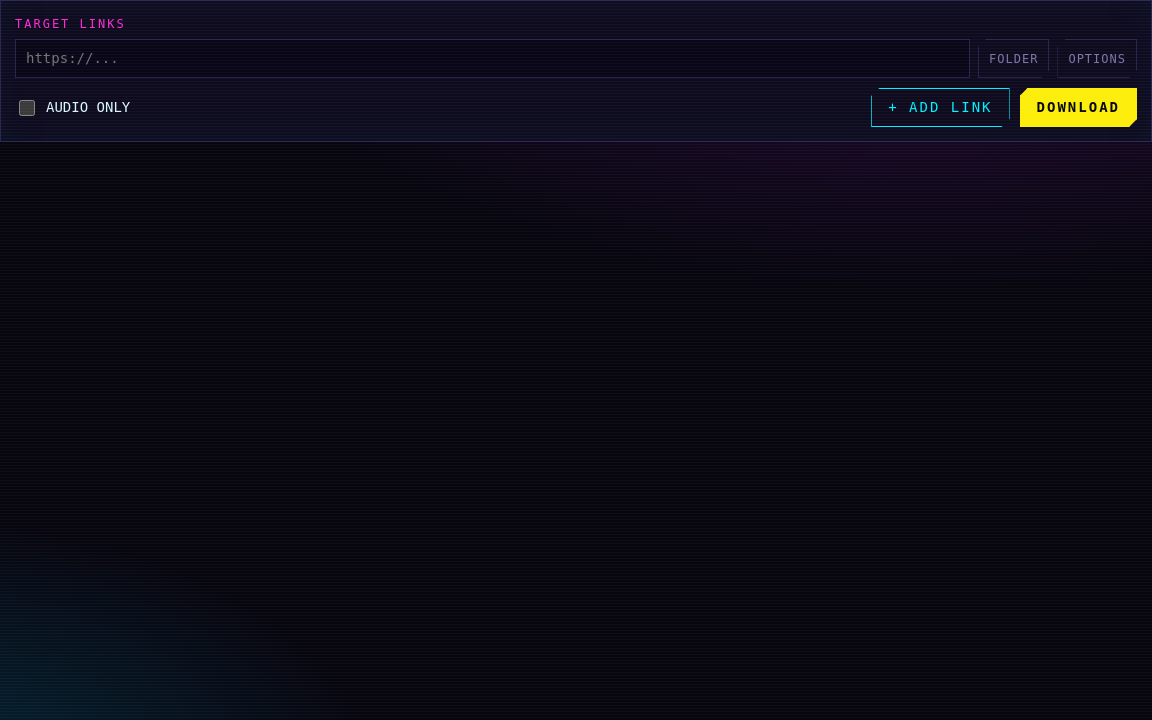
Scenario: UrlInput submit › keeps only the rejected links, with their error message, and clears the accepted ones
Click the button "+ ADD LINK" at (940, 108), box [871,88,1010,127]
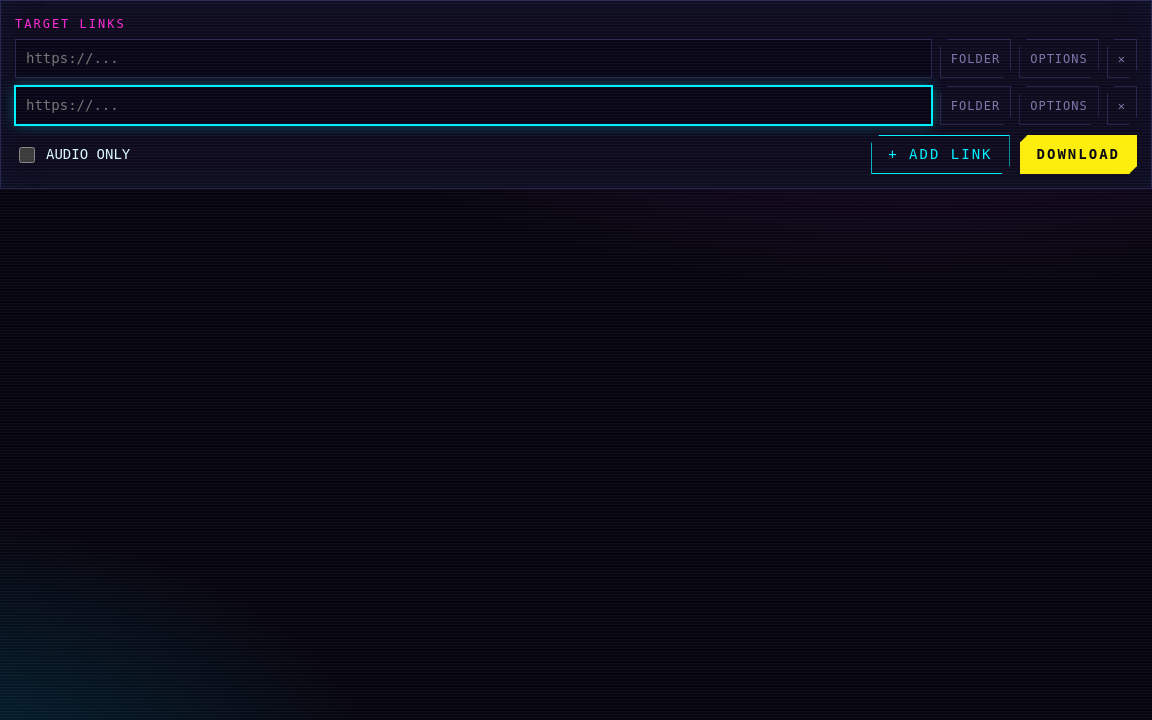
Type "https://ok.com" into the 1st field with placeholder "https://..." at (473, 58), box [15,39,932,78]
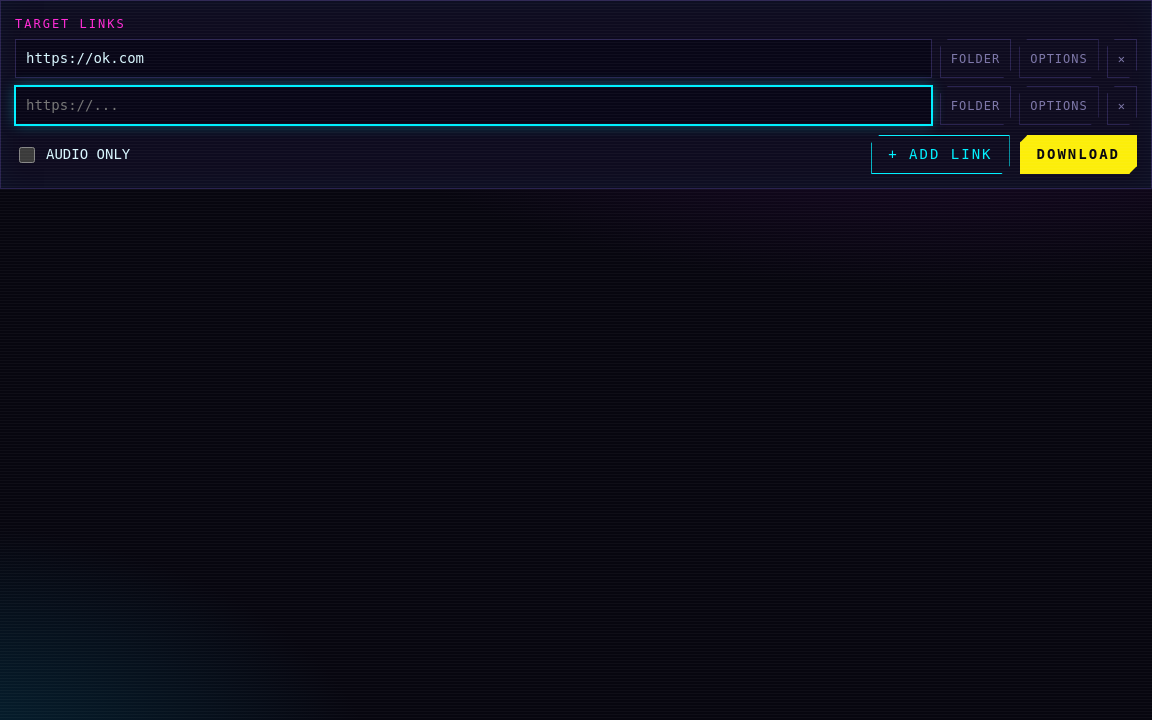
Type "not-a-url" into the field named "Link 2" at (473, 106), box [15,86,932,125]
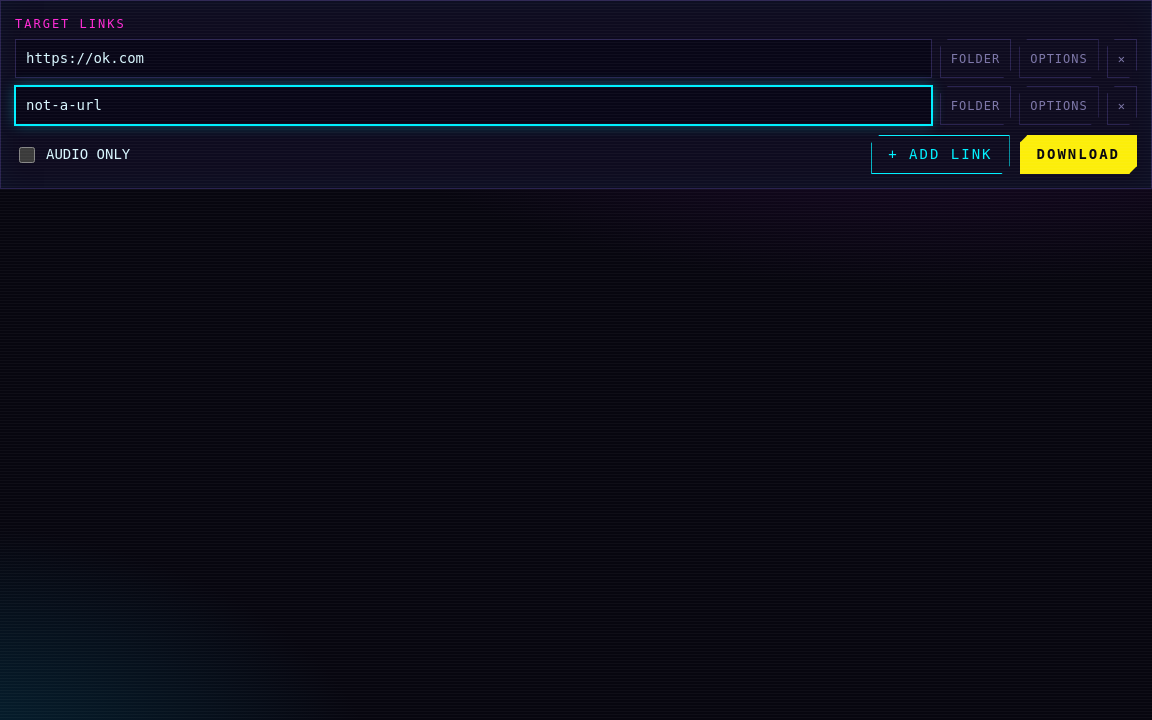
Click the button "DOWNLOAD" at (1078, 154), box [1020,135,1137,174]
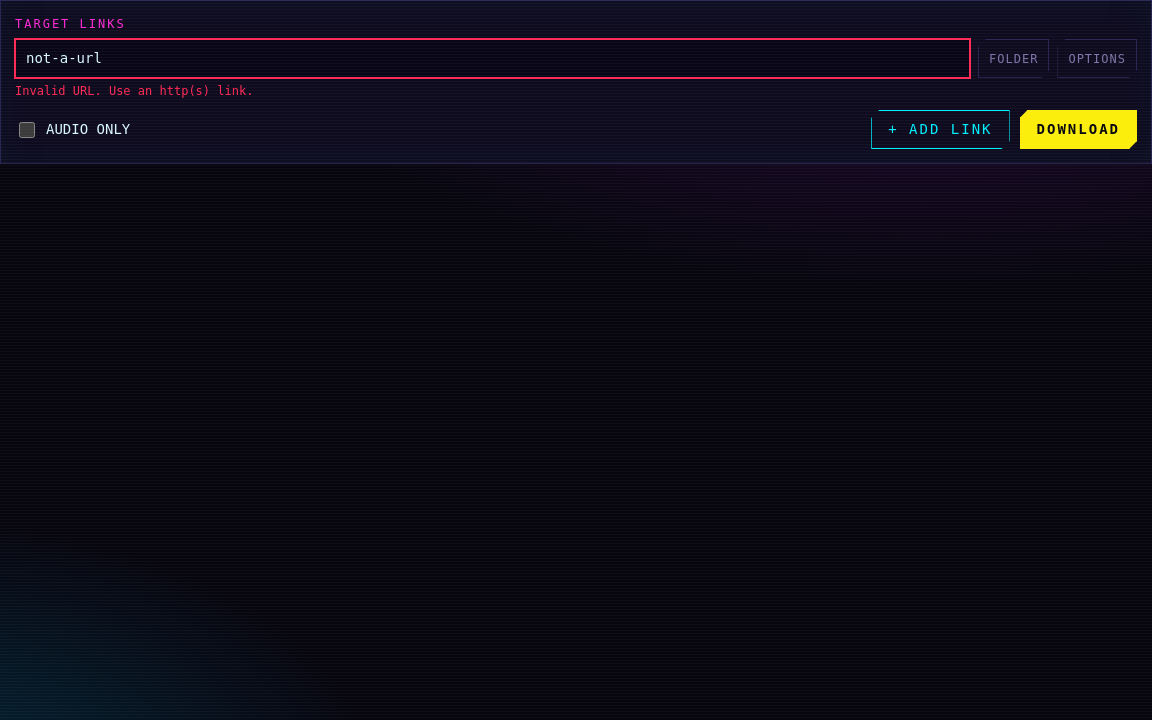
Check: the message reads "Invalid URL. Use an http(s) link.", box [15,84,253,98]
Check: the number of fields named "Link 1" is 1, box [15,39,970,78]
